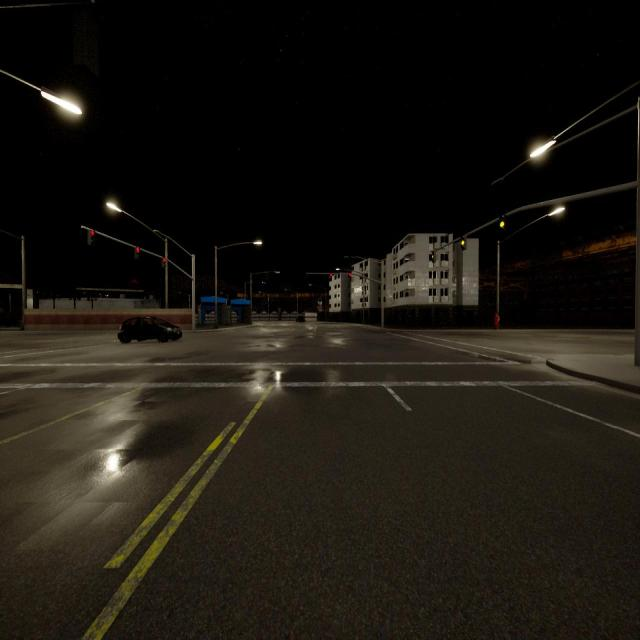Pedestrian: (494, 312, 500, 330)
Vehicle: (117, 317, 182, 343), (296, 315, 304, 322)
traffic_light: (88, 231, 94, 245), (461, 237, 466, 250), (500, 216, 505, 228), (135, 248, 140, 259), (432, 252, 436, 262), (162, 258, 165, 266), (349, 273, 351, 276), (330, 273, 332, 276)
